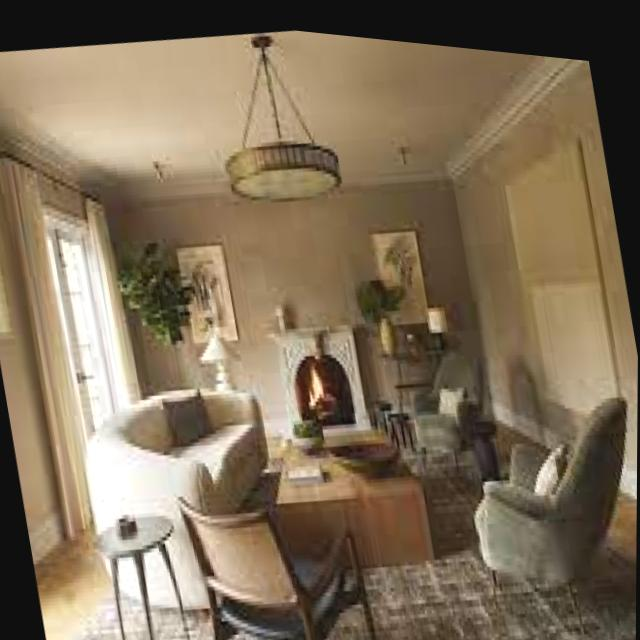noobs: (365, 471, 637, 640), (35, 514, 113, 640)
obs: (84, 384, 270, 611), (473, 380, 628, 623), (177, 493, 377, 640), (277, 419, 437, 562), (97, 511, 194, 640), (410, 339, 498, 474)
semobs: (256, 439, 288, 508)
